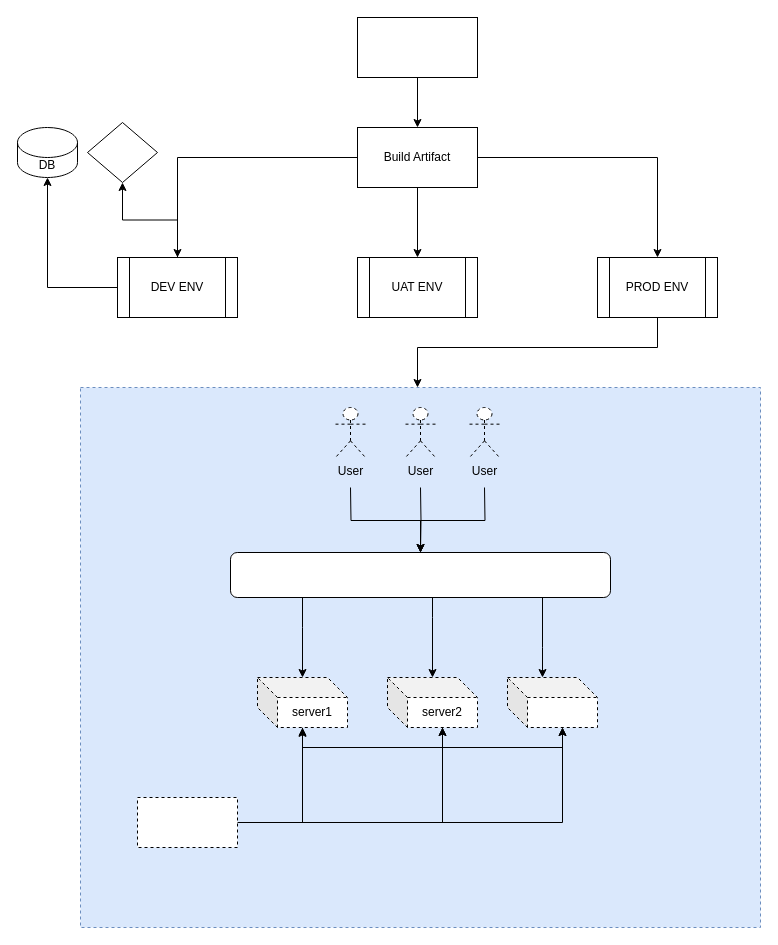
Image size: 778x945. Some labels were removed from this diagram. Here are the shapes that lost their labels. From the top down, the box of each, then its label:
(356, 16, 478, 78): App (helloworld)
(86, 122, 158, 182): external api
(230, 552, 610, 598): Load balance
(506, 676, 598, 728): server3
(136, 796, 238, 848): LOG
